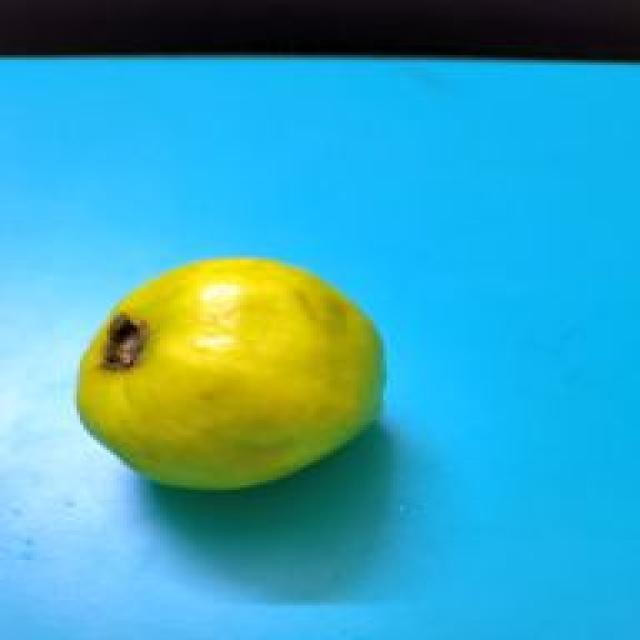Good_Guava: (73, 258, 387, 495)
